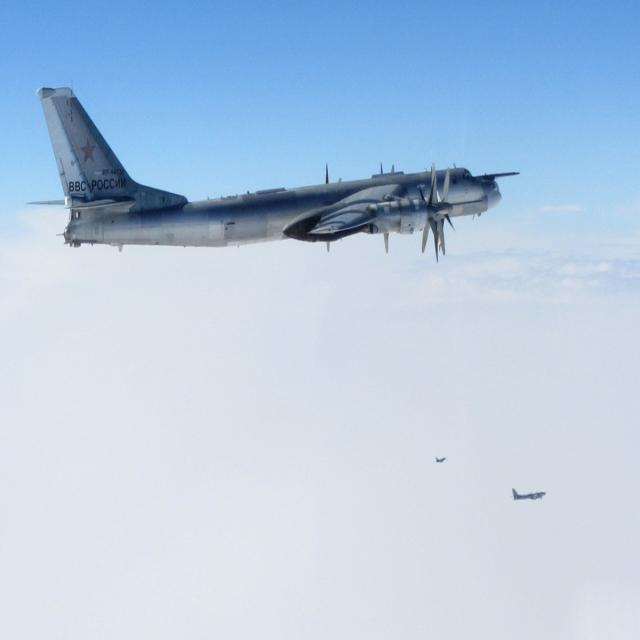MIL_Plane: (24, 137, 520, 205), (510, 488, 548, 502), (435, 453, 447, 466)
